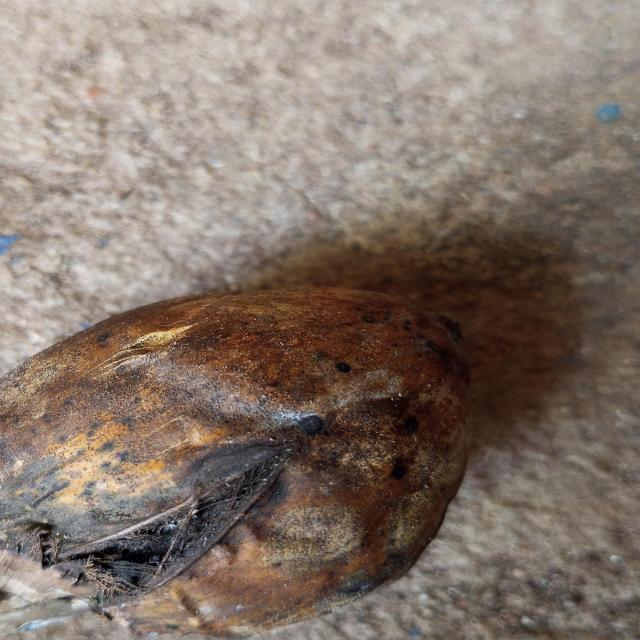damaged: (0, 288, 469, 636)
